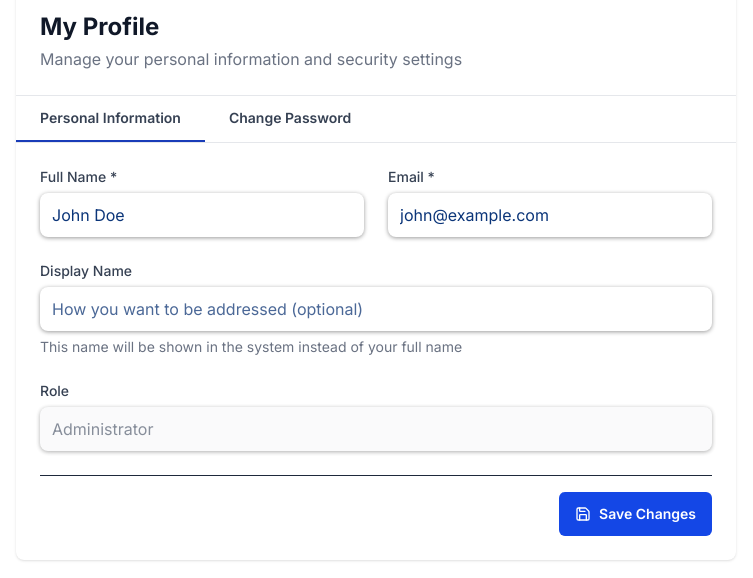
Test: ProfileSettings › switches between tabs
Expected: the field showing "John Doe" below "Full Name *" is shown, x1=40 y1=193 x2=364 y2=237
Click the button "Change Password": (290, 119) x1=205 y1=96 x2=375 y2=142
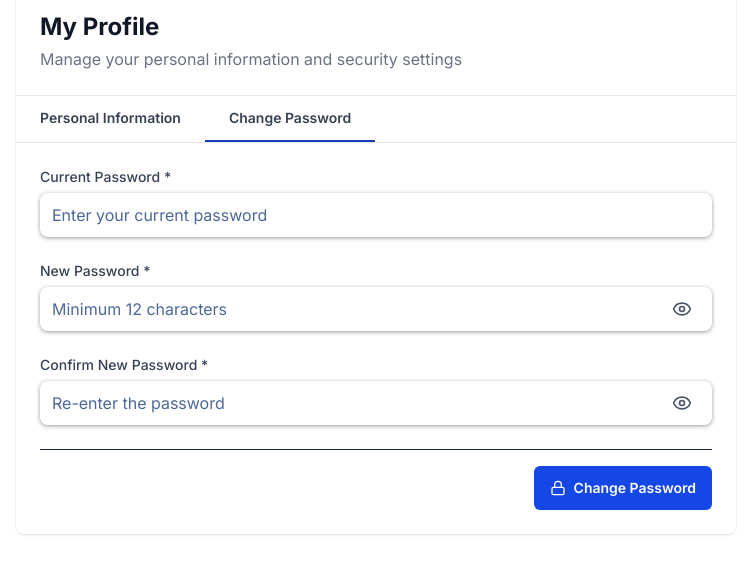
Result: the text "Current Password *" is shown at x1=40 y1=168 x2=171 y2=185
Click the button "Personal Information": (110, 119) x1=16 y1=96 x2=205 y2=142
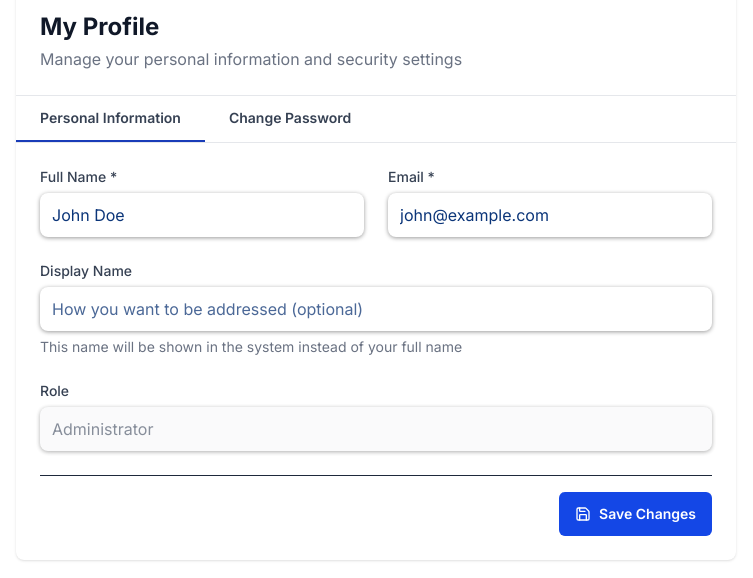
Result: the field showing "John Doe" below "Full Name *" is shown at x1=40 y1=193 x2=364 y2=237
